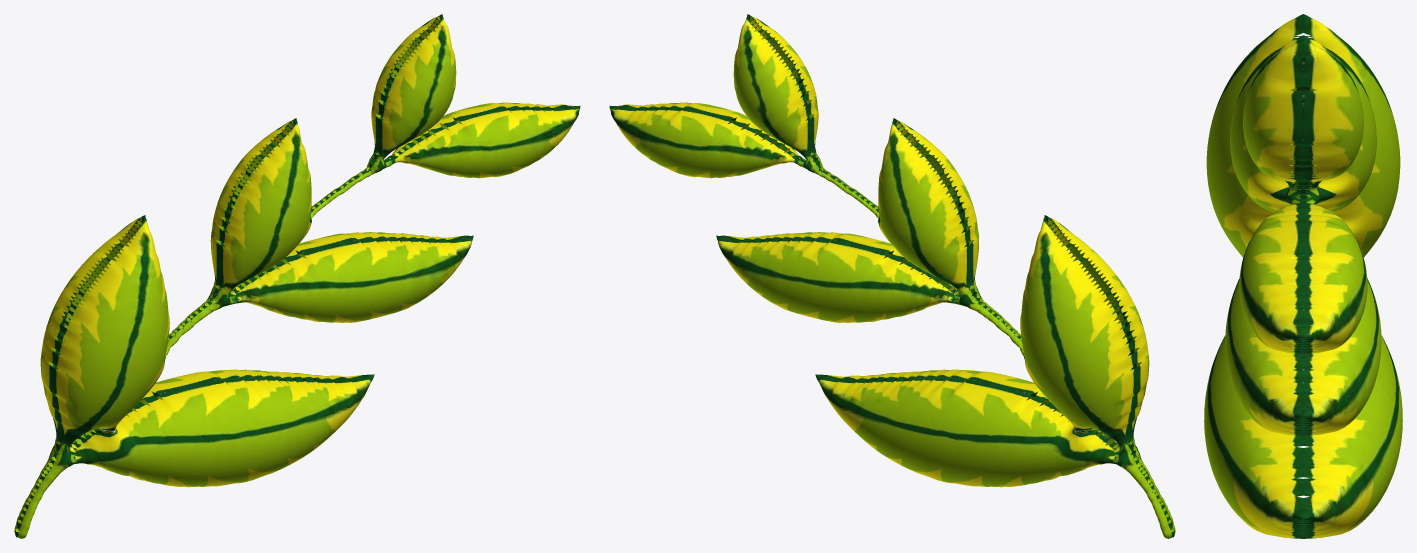
The model's file is golden_sprig.glb.
The picture shows the model from 3 angles, left to right: view 1: azimuth 30°, elevation 25°; view 2: azimuth 150°, elevation 25°; view 3: azimuth 270°, elevation 25°; orthographic projection. The views are drawn at different scales.
Visible parts, largest first — view 1: golden_sprig; view 2: golden_sprig; view 3: golden_sprig.
Part boxes in pixels (x1,y1,x2,y2): golden_sprig: (14,14,580,538); golden_sprig: (609,14,1175,538); golden_sprig: (1204,14,1402,538).
Bounding box in the file's own units: 0.9886 × 0.7049 × 0.1958.
1 material, 1 textured.
